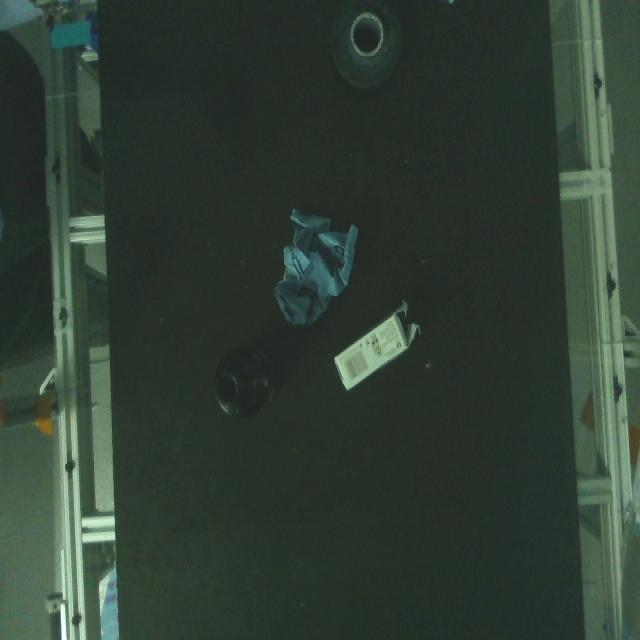non-paper: (320, 0, 419, 105)
paper: (266, 192, 368, 333), (331, 298, 420, 408), (201, 333, 280, 441)
